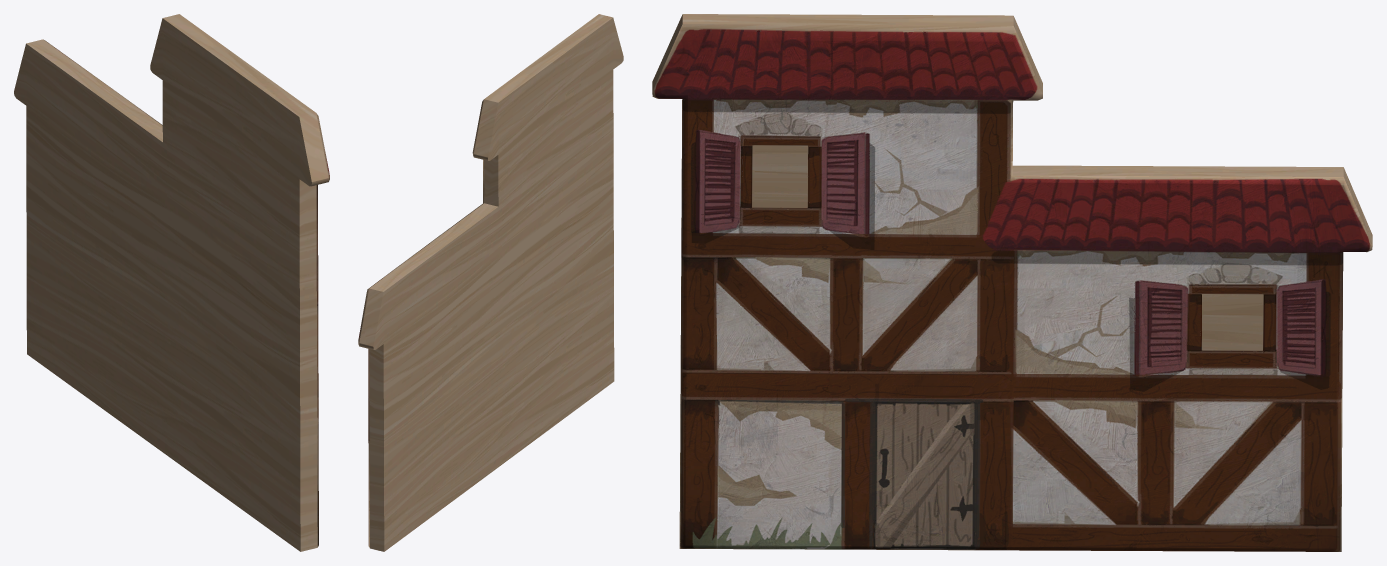
File: seaside house.glb
3 renders of one model, left to right at view 1: azimuth 30°, elevation 25°; view 2: azimuth 150°, elevation 25°; view 3: azimuth 270°, elevation 25°, orthographic. The views are drawn at different scales.
Parts seen in each view (by area): view 1: Facade_House; view 2: Facade_House; view 3: Facade_House.
Part boxes in pixels (x1,y1,x2,y2): Facade_House: (14, 14, 329, 551); Facade_House: (358, 14, 623, 551); Facade_House: (652, 14, 1372, 551).
Bounding box in the file's own units: 0.1897 × 3.95 × 4.89.
Materials: 1 (1 with a texture image).
